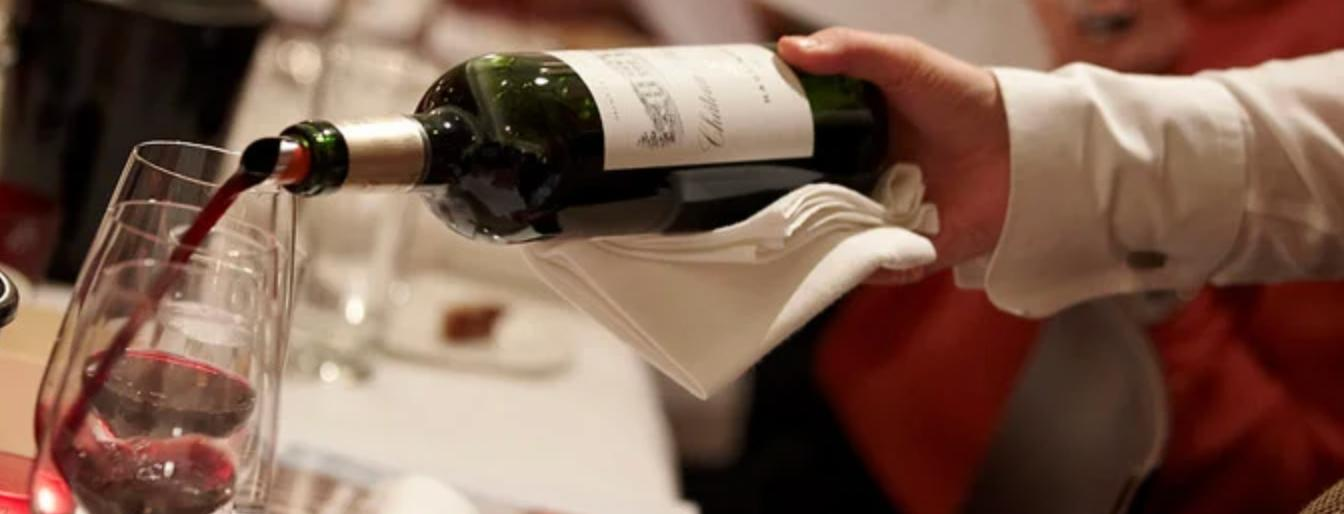wine bottle: (278, 37, 891, 245)
wine label: (536, 39, 814, 170)
